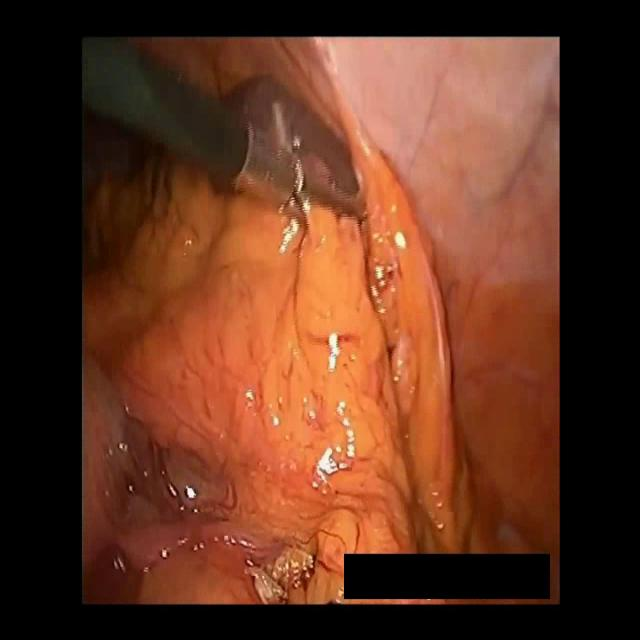surgical-area: (82, 40, 560, 605)
surgical-tool: (80, 39, 362, 218)
